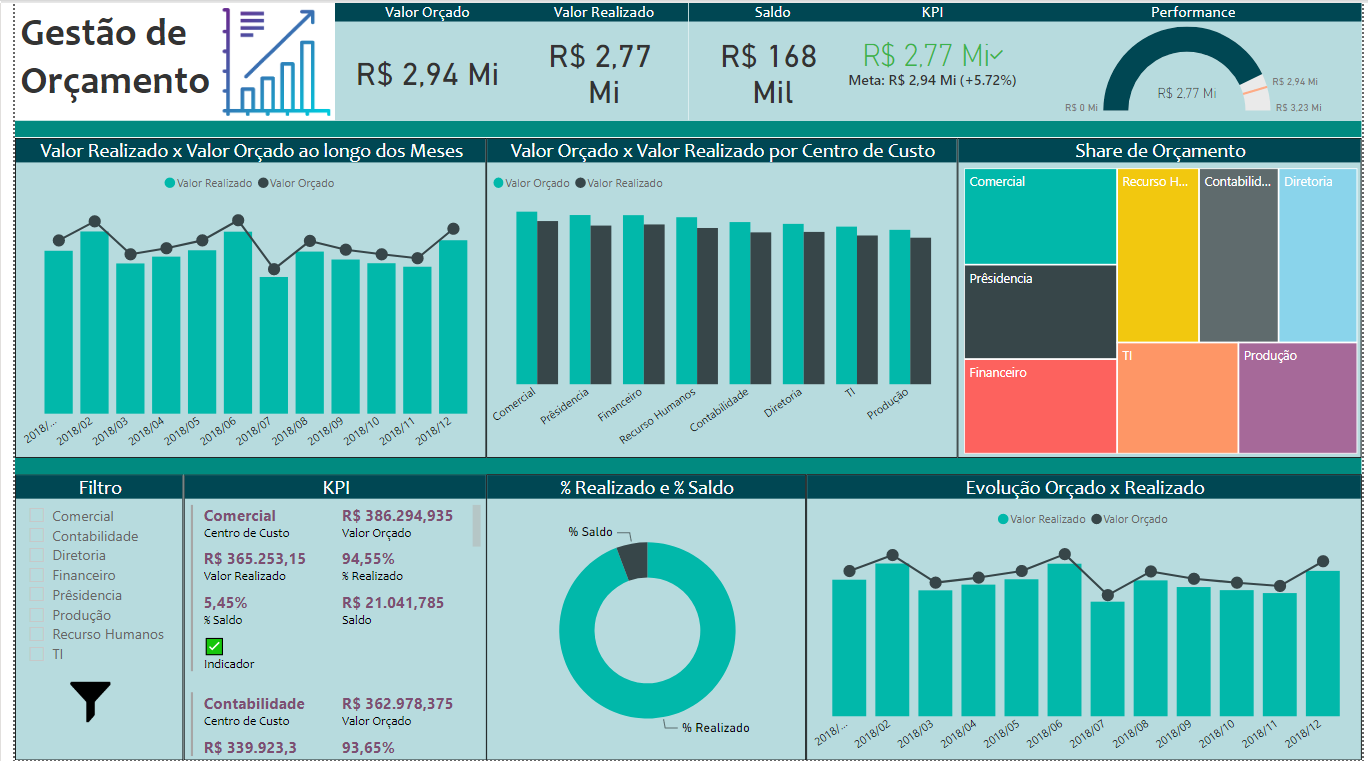

Layout of this report page (visuals, bound fields, positions):
{"tool":"powerbi","page":{"name":"Gestão de Orçamento","canvas":[1280,720],"ordinal":0},"visuals":[{"type":"textbox","box":[0,0,208,112],"z":0},{"type":"image","box":[192,0,112,112],"z":1000},{"type":"shape","box":[0,112,1280,16],"z":2000},{"type":"card","title":"Valor Orçado","fields":{"Values":["Medidas.M_VL_ORCADO"]},"box":[304,0,176,112],"z":3000},{"type":"card","title":"Valor Realizado","fields":{"Values":["Medidas.M_VL_REALIZADO"]},"box":[480,0,160,112],"z":4000},{"type":"card","title":"Saldo","fields":{"Values":["Medidas.M_SALDO"]},"box":[640,0,160,112],"z":5000},{"type":"kpi","title":"KPI","fields":{"Indicator":["Medidas.M_VL_REALIZADO"],"TrendLine":["TB_DIM_TEMPO.NM_ANO"],"Goal":["Medidas.M_VL_ORCADO"]},"box":[784,0,176,112],"z":6000},{"type":"gauge","title":"Performance","fields":{"Y":["Medidas.M_VL_REALIZADO"],"MaxValue":["Medidas.M_VALOR_MAXIMO"],"TargetValue":["Medidas.M_VL_ORCADO"]},"box":[960,0,320,112],"z":7000},{"type":"lineClusteredColumnComboChart","title":"Valor Realizado x Valor Orçado ao longo dos Meses","fields":{"Category":["TB_DIM_TEMPO.NM_ANO_MES","TB_DIM_CENTRO_CUSTO.NM_CENTRO_CUSTO"],"Y":["Medidas.M_VL_REALIZADO"],"Y2":["Medidas.M_VL_ORCADO"]},"box":[0,128,448,304],"z":8000},{"type":"clusteredColumnChart","title":"Valor Orçado x Valor Realizado por Centro de Custo","fields":{"Category":["TB_DIM_CENTRO_CUSTO.NM_CENTRO_CUSTO","TB_DIM_TEMPO.NM_ANO_MES"],"Y":["Medidas.M_VL_ORCADO","Medidas.M_VL_REALIZADO"]},"box":[448,128,448,304],"z":9000},{"type":"treemap","title":"Share de Orçamento","fields":{"Group":["TB_DIM_CENTRO_CUSTO.NM_CENTRO_CUSTO"],"Values":["Medidas.M_VL_ORCADO"]},"box":[896,128,384,304],"z":10000},{"type":"slicer","title":"Filtro","fields":{"Values":["TB_DIM_CENTRO_CUSTO.NM_CENTRO_CUSTO"]},"box":[0,448,160,272],"z":11000},{"type":"image","box":[48,640,48,48],"z":12000},{"type":"multiRowCard","title":"KPI","fields":{"Values":["TB_DIM_CENTRO_CUSTO.NM_CENTRO_CUSTO","Medidas.M_VL_ORCADO","Medidas.M_VL_REALIZADO","Medidas.M_%_REALIZADO","Medidas.M_%_SALDO","Medidas.M_SALDO","Medidas.M_INDICADOR"]},"box":[160,448,288,272],"z":13000},{"type":"shape","box":[0,432,1280,16],"z":14000},{"type":"donutChart","fields":{"Y":["Medidas.M_%_REALIZADO","Medidas.M_%_SALDO"]},"box":[448,448,304,272],"z":15000},{"type":"lineClusteredColumnComboChart","title":"Evolução Orçado x Realizado","fields":{"Category":["TB_DIM_TEMPO.NM_ANO_MES"],"Y":["Medidas.M_VL_REALIZADO"],"Y2":["Medidas.M_VL_ORCADO"]},"box":[752,448,528,272],"z":16000}]}

Visuals, with their boxes in screenshot pixels (x1, y1, x2, y2), scaled from the page's 1280x720 canvas onto the 1368x762 screenshot:
textbox: left=0, top=0, right=222, bottom=119
image: left=205, top=0, right=325, bottom=119
shape: left=0, top=119, right=1367, bottom=135
"Valor Orçado" card: left=325, top=0, right=513, bottom=119
"Valor Realizado" card: left=513, top=0, right=684, bottom=119
"Saldo" card: left=684, top=0, right=855, bottom=119
"KPI" kpi: left=838, top=0, right=1026, bottom=119
"Performance" gauge: left=1026, top=0, right=1367, bottom=119
"Valor Realizado x Valor Orçado ao longo dos Meses" lineClusteredColumnComboChart: left=0, top=135, right=479, bottom=457
"Valor Orçado x Valor Realizado por Centro de Custo" clusteredColumnChart: left=479, top=135, right=958, bottom=457
"Share de Orçamento" treemap: left=958, top=135, right=1367, bottom=457
"Filtro" slicer: left=0, top=474, right=171, bottom=761
image: left=51, top=677, right=103, bottom=728
"KPI" multiRowCard: left=171, top=474, right=479, bottom=761
shape: left=0, top=457, right=1367, bottom=474
donutChart - Medidas.M_%_REALIZADO x Medidas.M_%_SALDO: left=479, top=474, right=804, bottom=761
"Evolução Orçado x Realizado" lineClusteredColumnComboChart: left=804, top=474, right=1367, bottom=761
